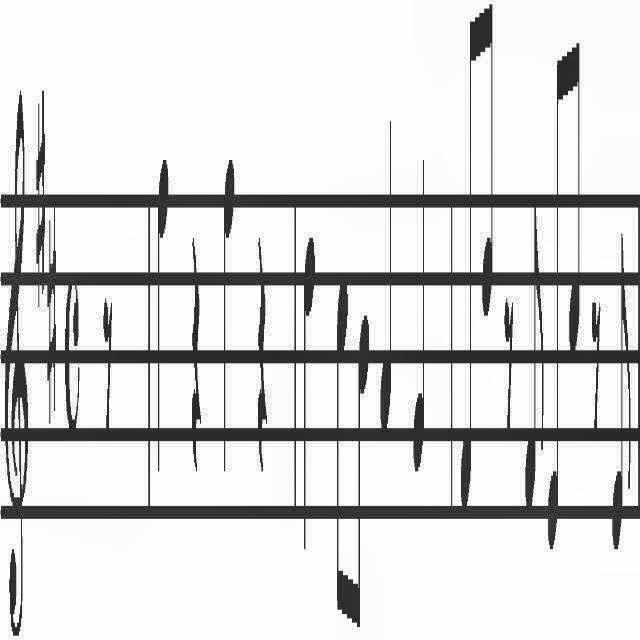Bass-clef: (0, 16, 28, 640)
Diez: (47, 198, 59, 442), (34, 76, 46, 316)
Eighth-note: (520, 178, 546, 526), (546, 20, 562, 546), (458, 21, 474, 524), (611, 232, 633, 578), (333, 232, 349, 640), (354, 294, 371, 640), (569, 0, 583, 380), (478, 0, 493, 348)
Eighth-rest: (589, 252, 601, 463), (102, 278, 115, 472), (502, 275, 514, 445)
Quarter-note: (408, 134, 428, 478), (377, 113, 395, 439), (220, 119, 236, 483), (300, 216, 316, 564), (156, 149, 170, 511)
Quarter-rest: (187, 202, 203, 528), (254, 202, 270, 480)
